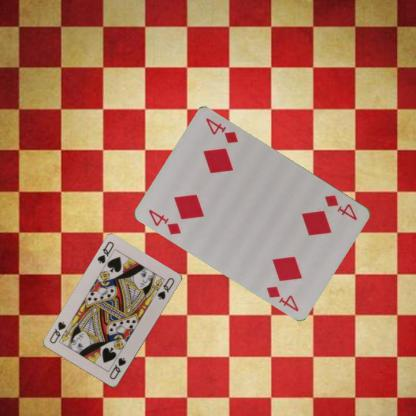4d: (322, 192, 359, 222), (146, 206, 183, 236)
Qs: (107, 355, 128, 381), (95, 239, 115, 265)
